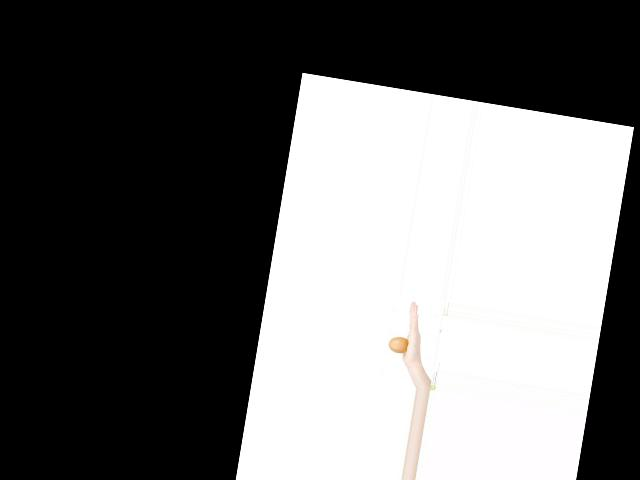egg: (387, 334, 409, 354)
